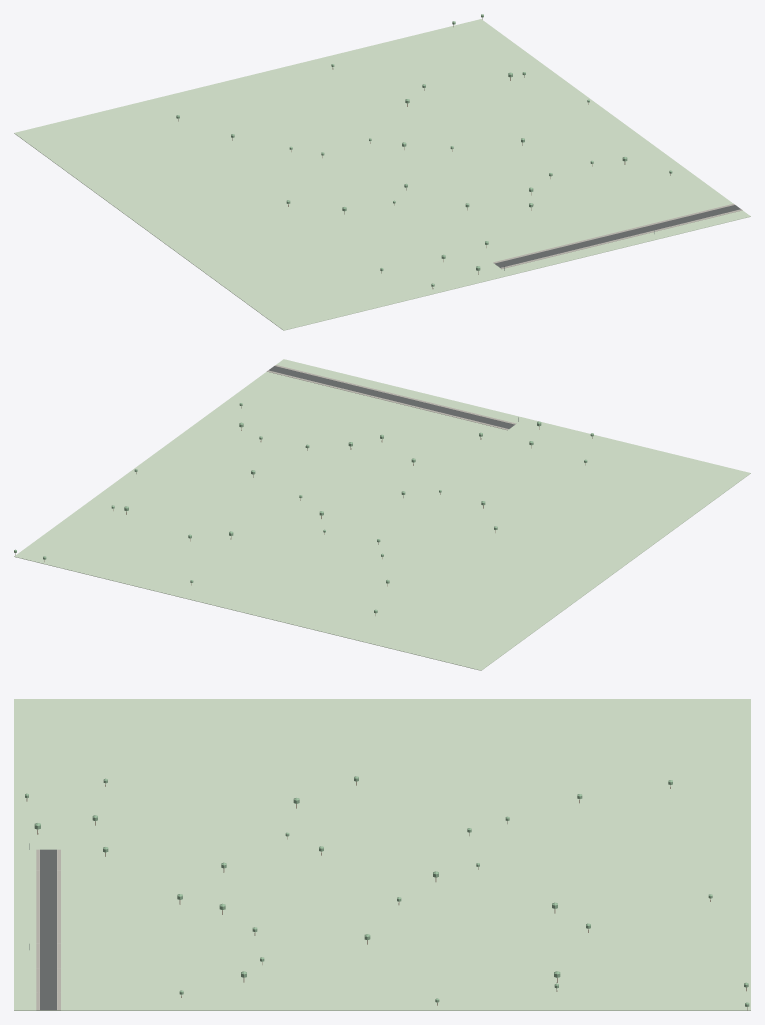
File: chunk_0_5_low.glb
The picture shows the model from 3 angles, top to bottom: view 1: azimuth 30°, elevation 25°; view 2: azimuth 150°, elevation 25°; view 3: azimuth 270°, elevation 25°; orthographic projection. The views are drawn at different scales.
Visible parts, largest first — view 1: city_grass, city_world_asphalt, city_world_sidewalk, city_foliage_dark; view 2: city_grass, city_world_asphalt, city_world_sidewalk, city_foliage_dark; view 3: city_grass, city_world_asphalt, city_world_sidewalk, city_foliage_dark.
Part boxes in pixels (left/top/right/bottom): city_grass: left=14, top=19, right=750, bottom=330; city_world_asphalt: left=495, top=205, right=740, bottom=267; city_world_sidewalk: left=493, top=203, right=742, bottom=268; city_foliage_dark: left=176, top=14, right=672, bottom=286; city_grass: left=14, top=359, right=750, bottom=670; city_world_asphalt: left=268, top=366, right=514, bottom=428; city_world_sidewalk: left=267, top=365, right=516, bottom=430; city_foliage_dark: left=14, top=403, right=593, bottom=613; city_grass: left=14, top=699, right=750, bottom=1010; city_world_asphalt: left=40, top=849, right=56, bottom=1010; city_world_sidewalk: left=36, top=849, right=60, bottom=1010; city_foliage_dark: left=25, top=776, right=749, bottom=1006.
Bounding box in the file's own units: 514 × 9.35 × 512.
